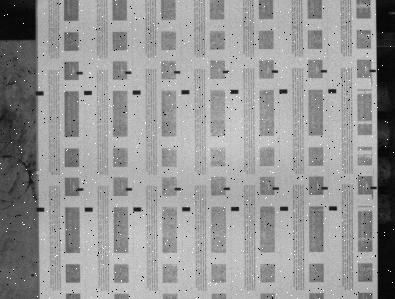backgroundclutter: (31, 274, 35, 278)
qblock: (182, 207, 191, 212), (280, 89, 288, 94), (133, 90, 141, 95), (36, 91, 44, 96), (329, 207, 338, 211), (231, 90, 239, 94), (182, 90, 190, 94), (37, 208, 45, 212), (85, 208, 93, 212), (134, 208, 142, 212), (329, 89, 337, 93), (84, 91, 92, 95), (281, 207, 289, 211), (232, 207, 240, 211)
smallqblock: (76, 71, 83, 75), (223, 70, 230, 74), (273, 187, 280, 191), (370, 69, 377, 73), (126, 188, 133, 191), (321, 70, 328, 73), (174, 71, 181, 74), (224, 188, 231, 191), (272, 70, 279, 73), (77, 188, 84, 191), (125, 71, 132, 74), (371, 187, 378, 190), (322, 187, 328, 190), (175, 188, 181, 191)
